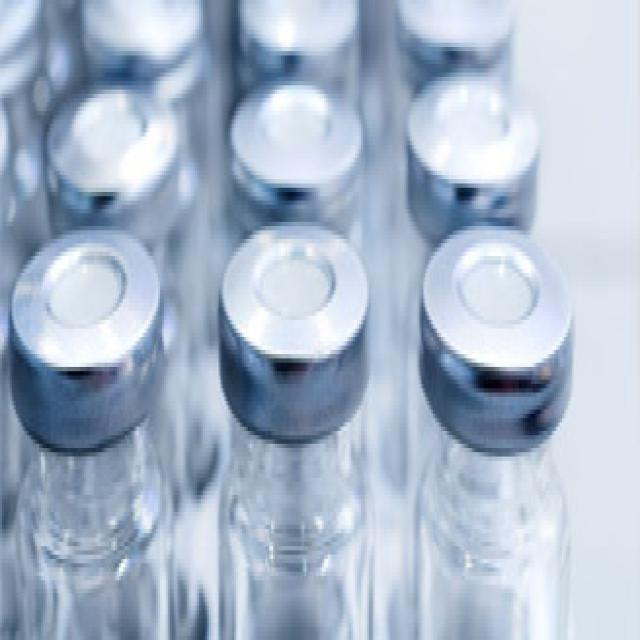vial: (230, 193, 356, 382), (233, 63, 373, 208), (426, 234, 557, 384), (11, 237, 150, 360), (414, 72, 541, 191), (48, 78, 181, 190), (71, 0, 205, 77), (236, 0, 367, 65), (398, 0, 522, 58)
